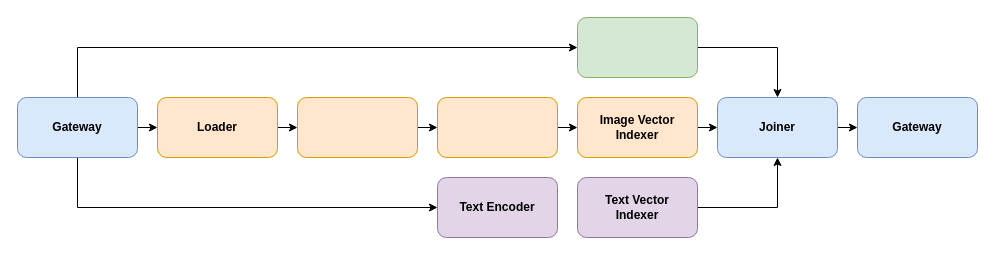
Image size: 995x255. Some labels were removed from this diagram. Here are the shapes that lost their labels. From the top down, the centre of each, then its label:
At (637,47): "Image Indexer".
At (357,127): "Normalizer".
At (497,127): "Image Encoder".
